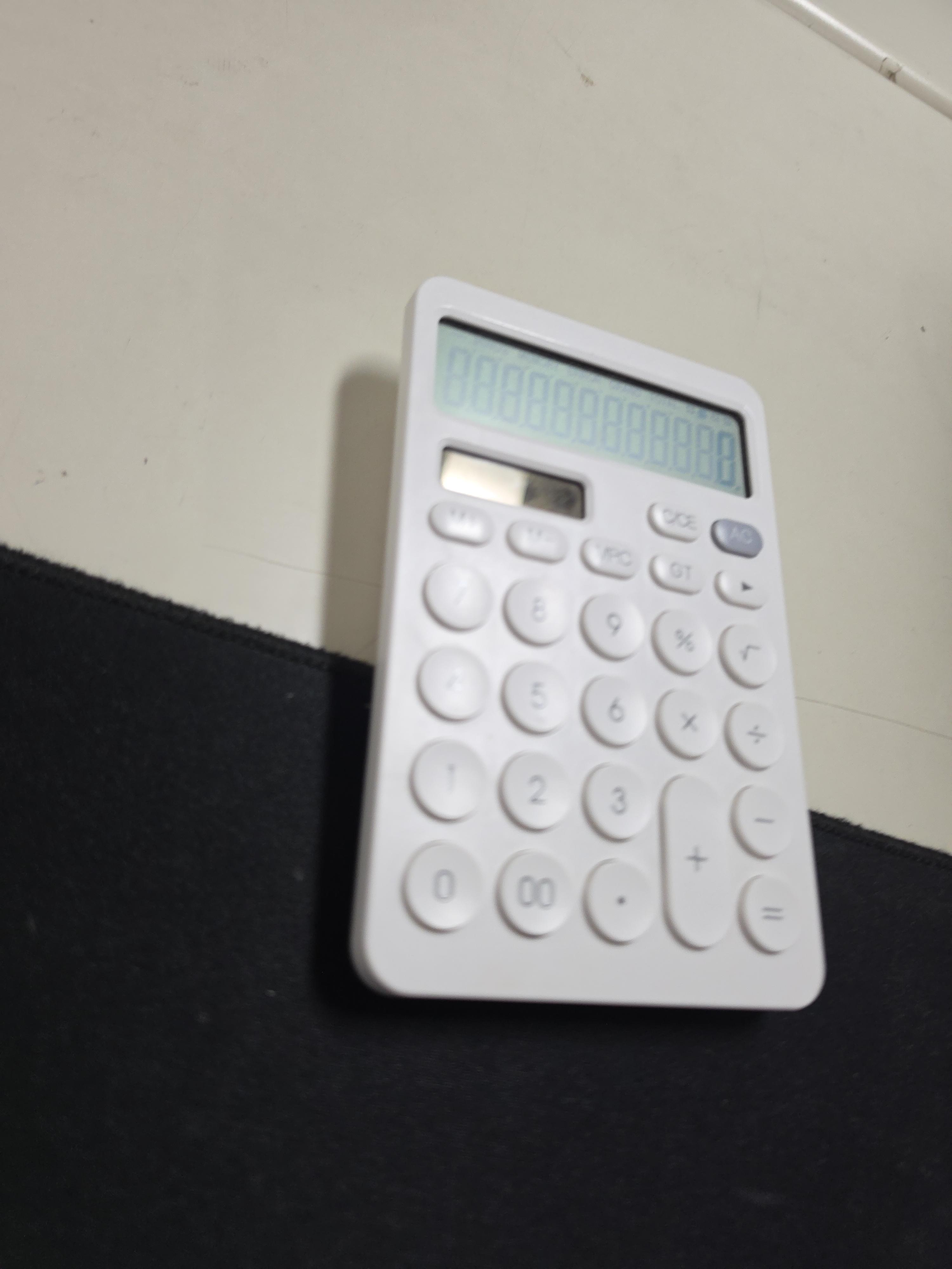calculator: (353, 274, 827, 1012)
